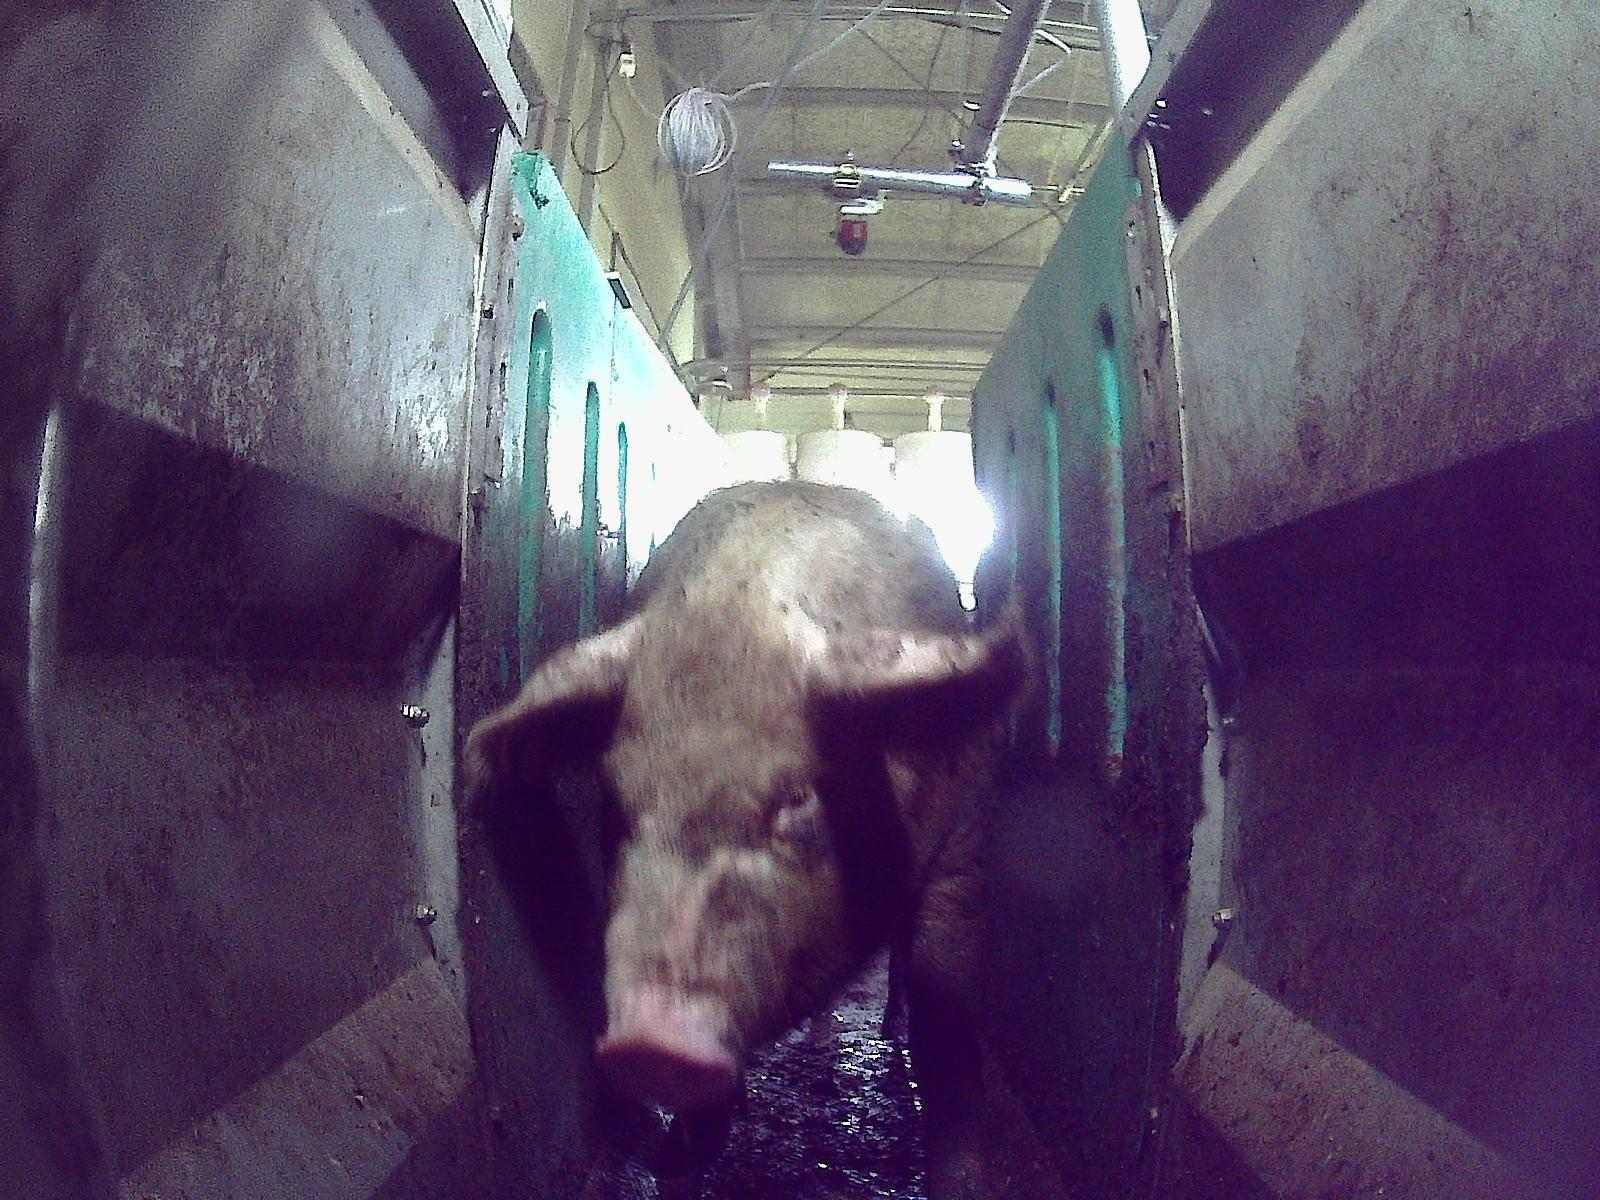Face: (595, 602, 917, 1118)
